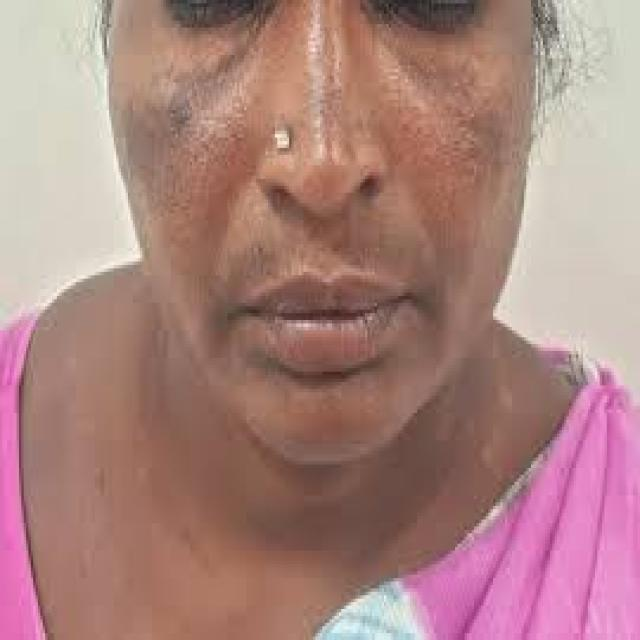pigmentation: (408, 56, 506, 158), (133, 71, 236, 156)
